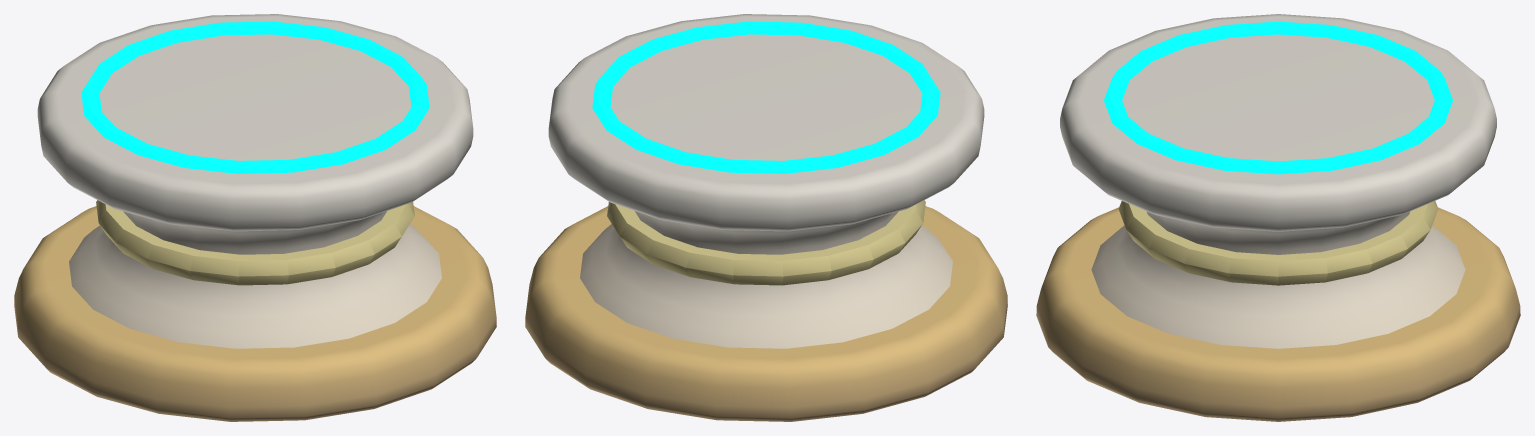
File: pedestal.glb
3 views of the same model, side by side, from view 1: azimuth 30°, elevation 25°; view 2: azimuth 150°, elevation 25°; view 3: azimuth 270°, elevation 25° (orthographic).
Visible parts, largest first — view 1: Body, Glow_00E5FF; view 2: Body, Glow_00E5FF; view 3: Body, Glow_00E5FF.
Part boxes in pixels (box(x1,y1,x2,y2)): Body: box(14, 14, 496, 421); Glow_00E5FF: box(81, 21, 429, 173); Body: box(525, 14, 1007, 421); Glow_00E5FF: box(592, 21, 940, 173); Body: box(1036, 14, 1520, 421); Glow_00E5FF: box(1104, 21, 1452, 174).
Bounding box in the file's own units: 6.87 × 3.61 × 6.87.
